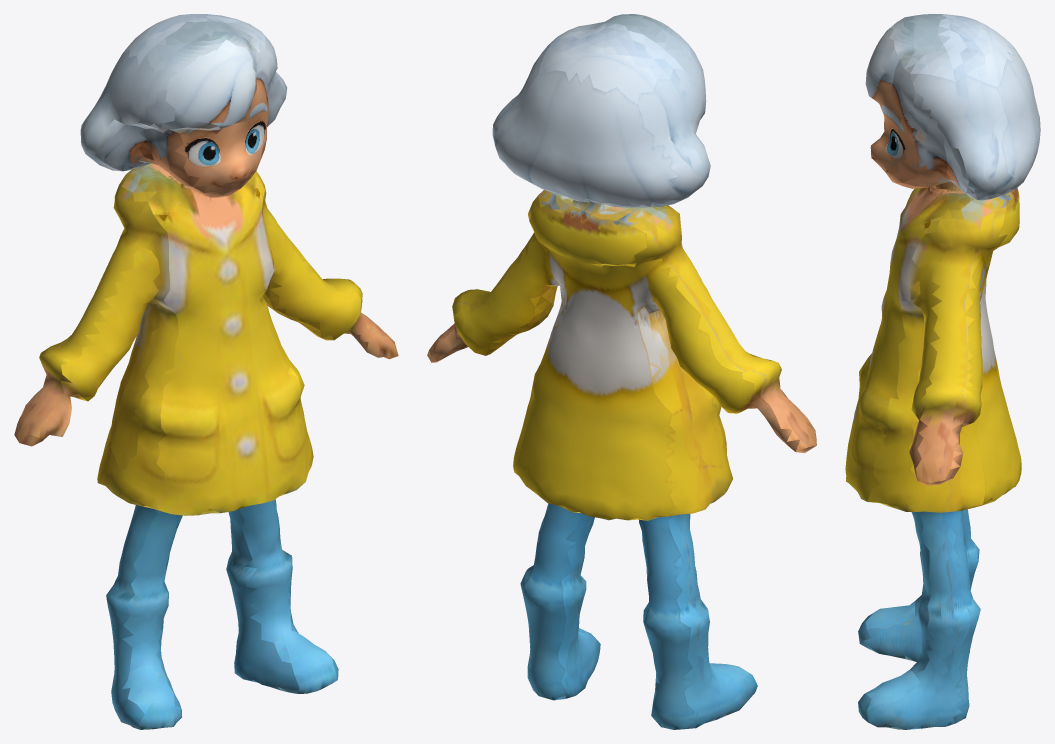
Rendered from cloud-arms-toon.glb.
3 views of the same model, side by side, from view 1: azimuth 30°, elevation 25°; view 2: azimuth 150°, elevation 25°; view 3: azimuth 270°, elevation 25° (orthographic). The views are drawn at different scales.
Parts seen in each view (by area): view 1: world; view 2: world; view 3: world.
Boxes of the visible parts, x1,y1,x2,y2 form: world: (14, 14, 398, 729); world: (427, 14, 816, 729); world: (845, 14, 1040, 729).
Size of the model in its own units: 0.5596 by 0.9504 by 0.2522.
1 material, 1 textured.
